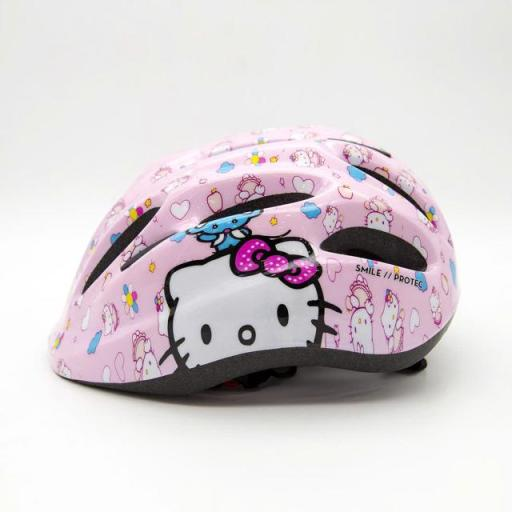with helmet: (39, 126, 473, 408)
